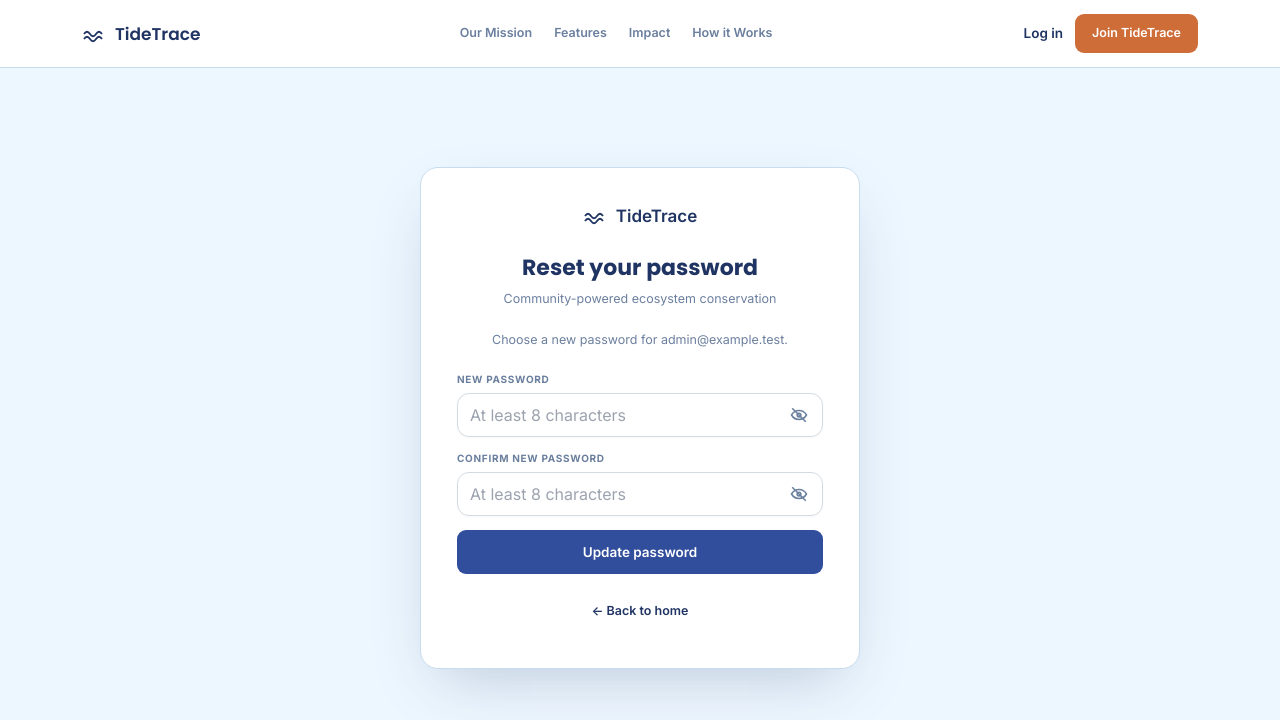
Test case: blocks mismatched passwords before making an update request
In the password field labelled "New password": (640, 414) left=457, top=392, right=823, bottom=436, type "a-new-strong-password-42"
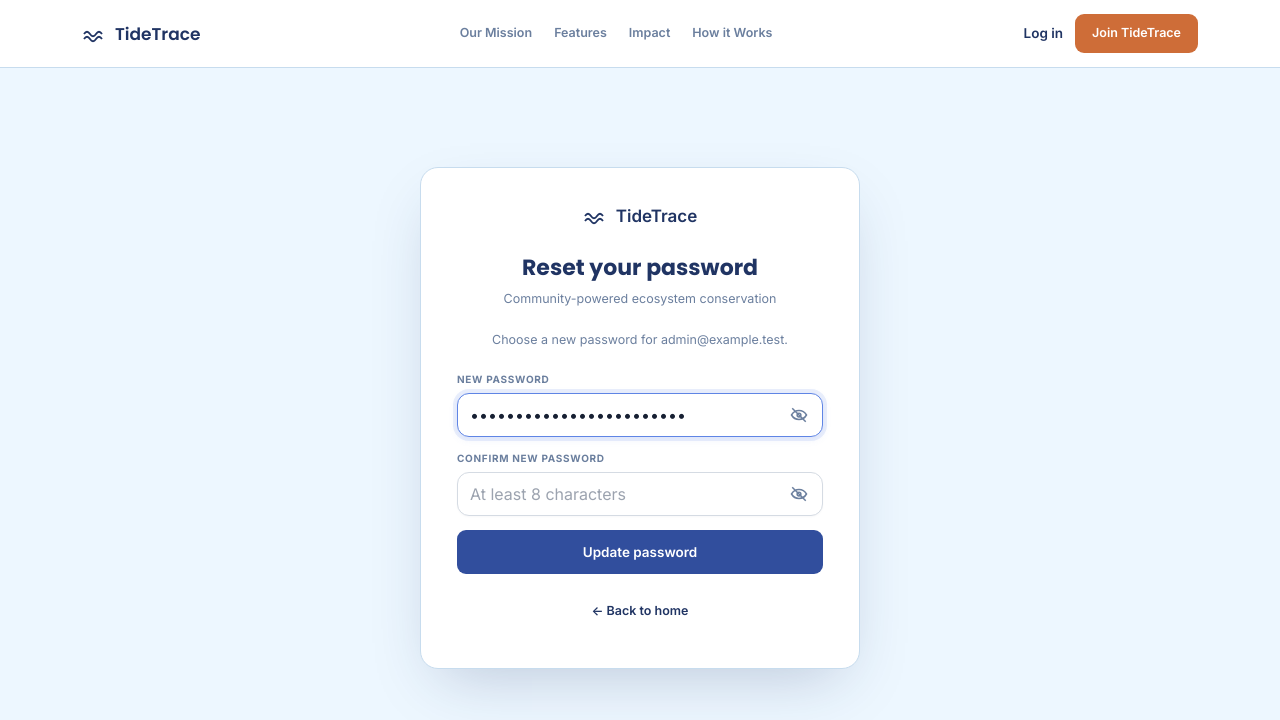
In the password field labelled "Confirm new password": (640, 494) left=457, top=472, right=823, bottom=516, type "different-password"
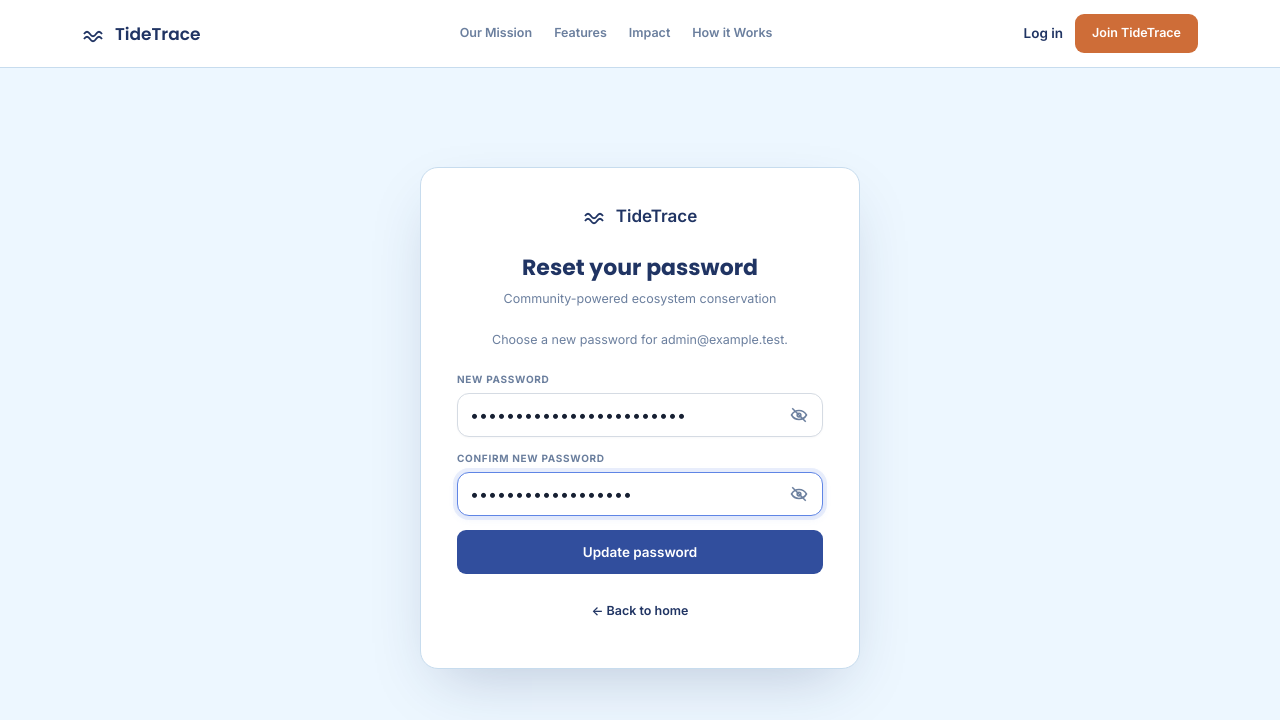
Click the button "Update password": (640, 552) left=457, top=530, right=823, bottom=574
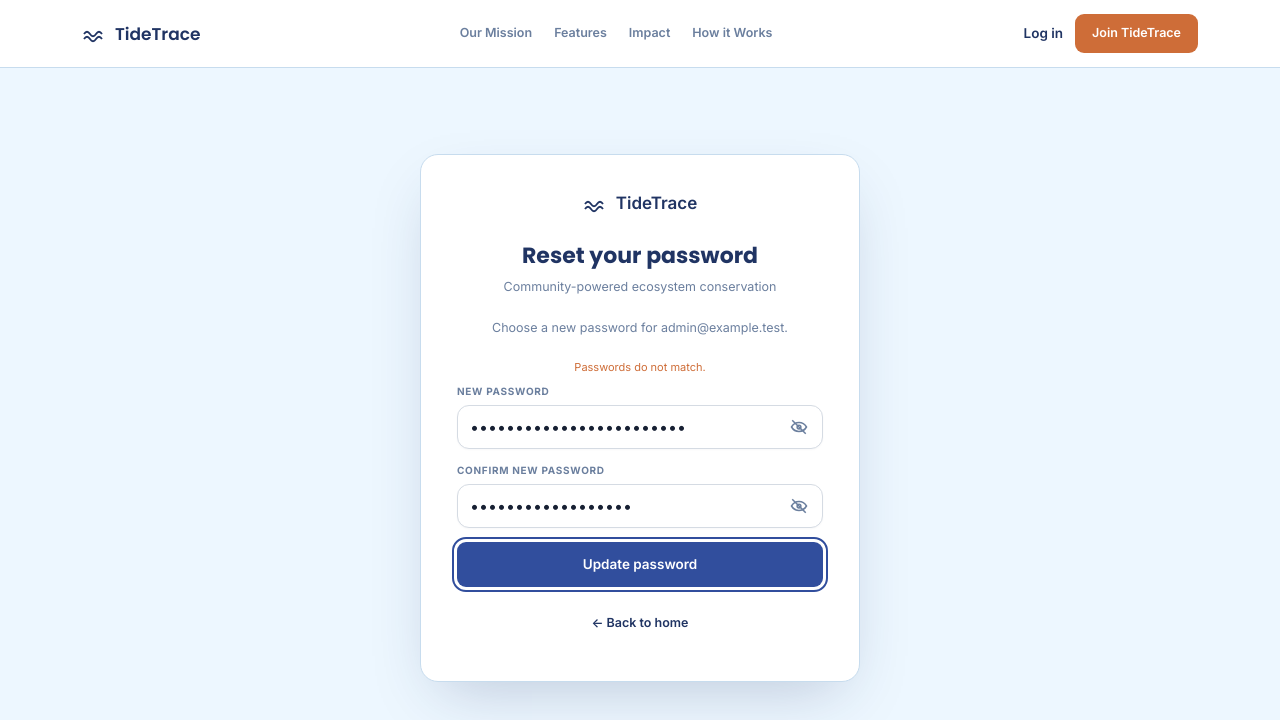
Expected: the message shows "do not match", left=574, top=360, right=706, bottom=374
